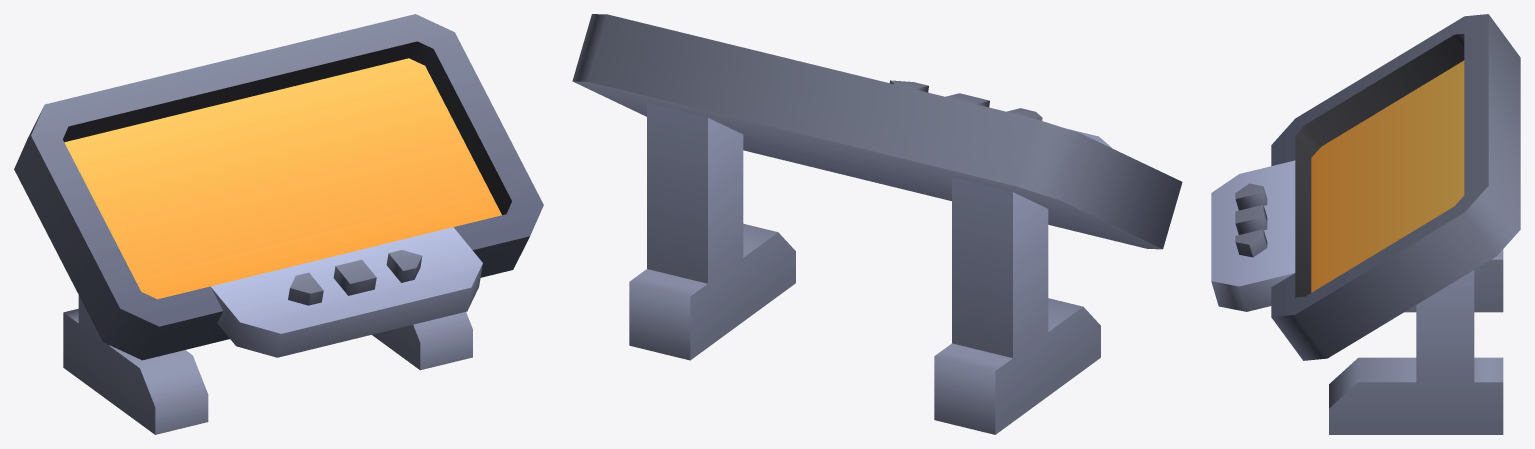
Rendered from kenney-space-station-computer-wide.glb.
3 renders of one model, left to right at view 1: azimuth 30°, elevation 25°; view 2: azimuth 150°, elevation 25°; view 3: azimuth 270°, elevation 25°, orthographic. The views are drawn at different scales.
Parts seen in each view (by area): view 1: computer-wide; view 2: computer-wide; view 3: computer-wide.
Boxes of the visible parts, x1,y1,x2,y2 form: computer-wide: (14, 14, 543, 434); computer-wide: (572, 14, 1182, 434); computer-wide: (1211, 14, 1520, 434).
Bounding box in the file's own units: 0.8 × 0.4968 × 0.5332.
Materials: 1 (1 with a texture image).
